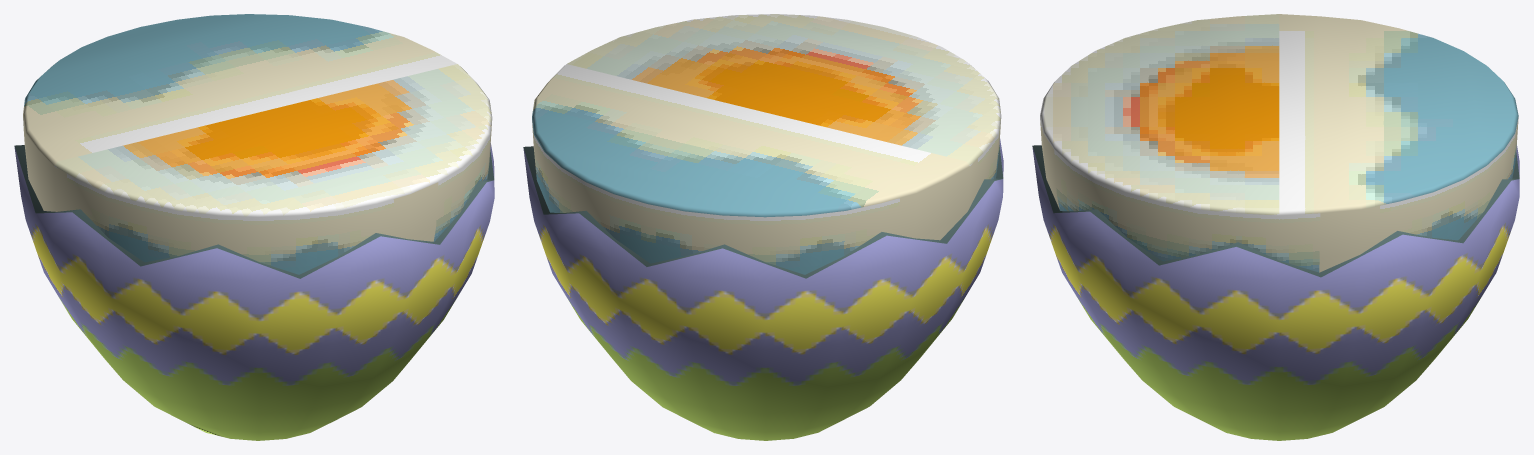
Rendered from int_egg_tableS.dae.
3 views of the same model, side by side, from view 1: azimuth 30°, elevation 25°; view 2: azimuth 150°, elevation 25°; view 3: azimuth 270°, elevation 25° (orthographic).
Visible parts, largest first — view 1: int_egg_tableS; view 2: int_egg_tableS; view 3: int_egg_tableS.
Part boxes in pixels (<box>): int_egg_tableS: <box>14,14,494,440</box>; int_egg_tableS: <box>523,14,1003,440</box>; int_egg_tableS: <box>1032,14,1519,440</box>.
Bounding box in the file's own units: 27.64 × 20 × 28.02.
Materials: 2 (2 with a texture image).
